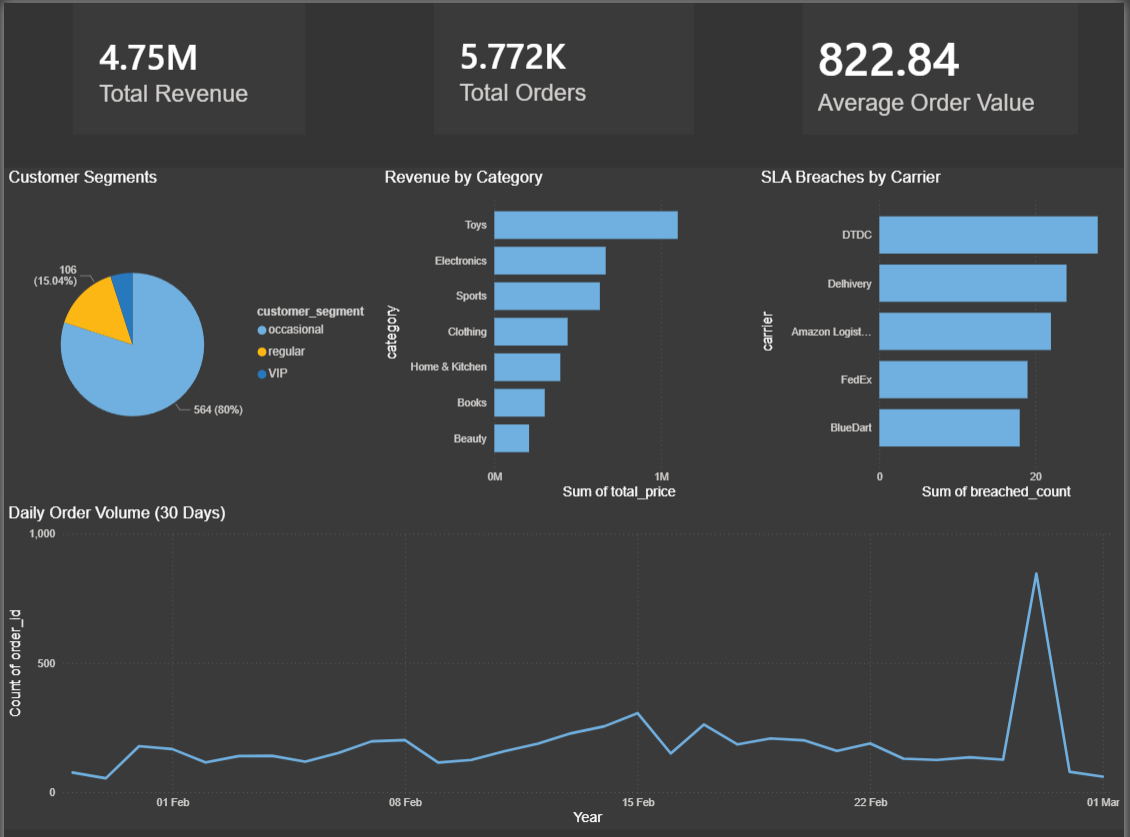

The page's visual inventory and layout, read from the dashboard file:
{"tool":"powerbi","page":{"name":"Page 1","canvas":[1280,874],"ordinal":0},"visuals":[{"type":"cardVisual","fields":{"Data":["Sum(analytics fact_orders.total_price)"]},"box":[0,0,185.6,104.9],"z":0},{"type":"cardVisual","fields":{"Data":["Count(analytics fact_orders.order_id)"]},"box":[186,0,210.5,104.7],"z":1000},{"type":"cardVisual","fields":{"Data":["Avg(analytics fact_orders.total_price)"]},"box":[396.5,0,231.4,104.7],"z":2000},{"type":"barChart","fields":{"Category":["analytics dim_product.category"],"Y":["Sum(analytics fact_orders.total_price)"]},"box":[429.6,108.6,419.8,385.2],"z":3000},{"type":"lineChart","fields":{"Y":["CountNonNull(analytics fact_orders.order_id)"],"Category":["analytics fact_orders.order_date.Variation.Date Hierarchy.Year","analytics fact_orders.order_date.Variation.Date Hierarchy.Quarter","analytics fact_orders.order_date.Variation.Date Hierarchy.Month","analytics fact_orders.order_date.Variation.Date Hierarchy.Day"]},"box":[6.2,514.8,1274.1,359.3],"z":4000},{"type":"barChart","fields":{"Category":["public gold_sla_by_carrier.carrier"],"Y":["Sum(public gold_sla_by_carrier.breached_count)"]},"box":[859.9,105.2,419.8,385.1],"z":5000},{"type":"pieChart","fields":{"Category":["analytics dim_user.customer_segment"],"Y":["CountNonNull(analytics dim_user.user_id)"]},"box":[0,108.8,422.2,381.5],"z":6000}]}

Visuals, with their boxes on the page's 1280x874 design canvas (x1, y1, x2, y2). These are canvas units, not pixel positions in the 1130x837 screenshot, which may show the page scaled, cropped or inside an application window:
cardVisual - Sum(analytics fact_orders.total_price): pyautogui.locateOnScreen(0, 0, 186, 105)
cardVisual - Count(analytics fact_orders.order_id): pyautogui.locateOnScreen(186, 0, 396, 105)
cardVisual - Avg(analytics fact_orders.total_price): pyautogui.locateOnScreen(396, 0, 628, 105)
barChart - analytics dim_product.category x Sum(analytics fact_orders.total_price): pyautogui.locateOnScreen(430, 109, 849, 494)
lineChart - CountNonNull(analytics fact_orders.order_id) x analytics fact_orders.order_date.Variation.Date Hierarchy.Year: pyautogui.locateOnScreen(6, 515, 1280, 874)
barChart - public gold_sla_by_carrier.carrier x Sum(public gold_sla_by_carrier.breached_count): pyautogui.locateOnScreen(860, 105, 1280, 490)
pieChart - analytics dim_user.customer_segment x CountNonNull(analytics dim_user.user_id): pyautogui.locateOnScreen(0, 109, 422, 490)
